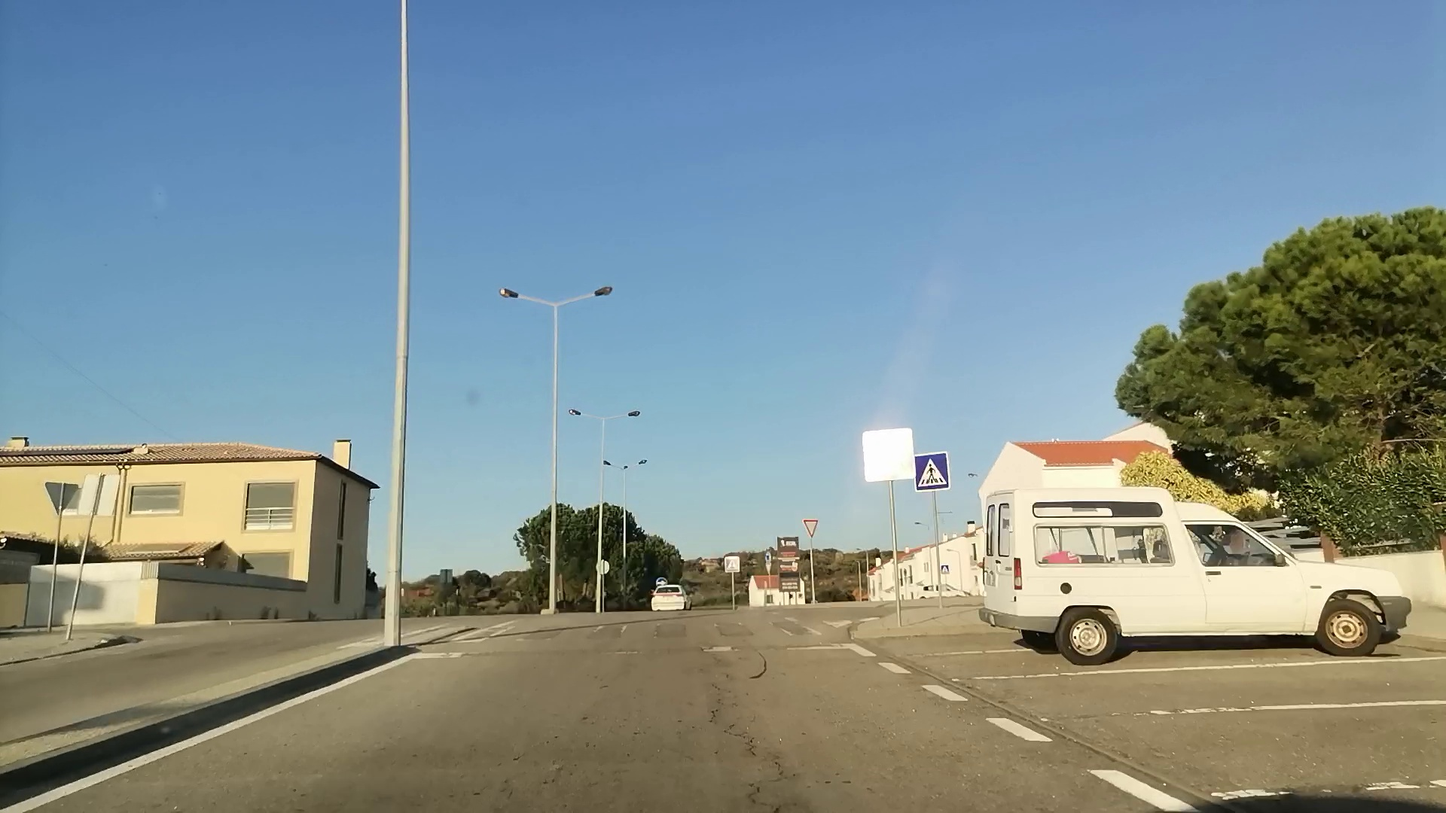Stairs: (460, 618, 859, 664)
